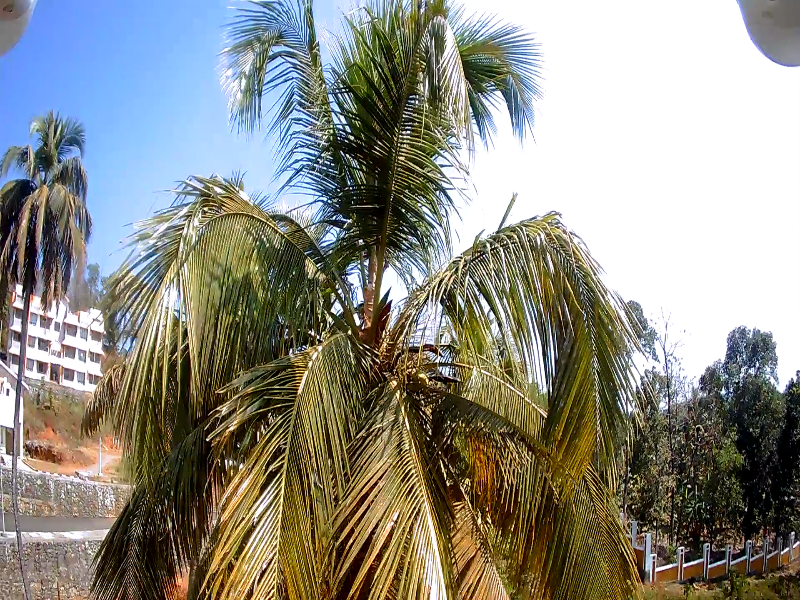coconut: (412, 364, 428, 389)
